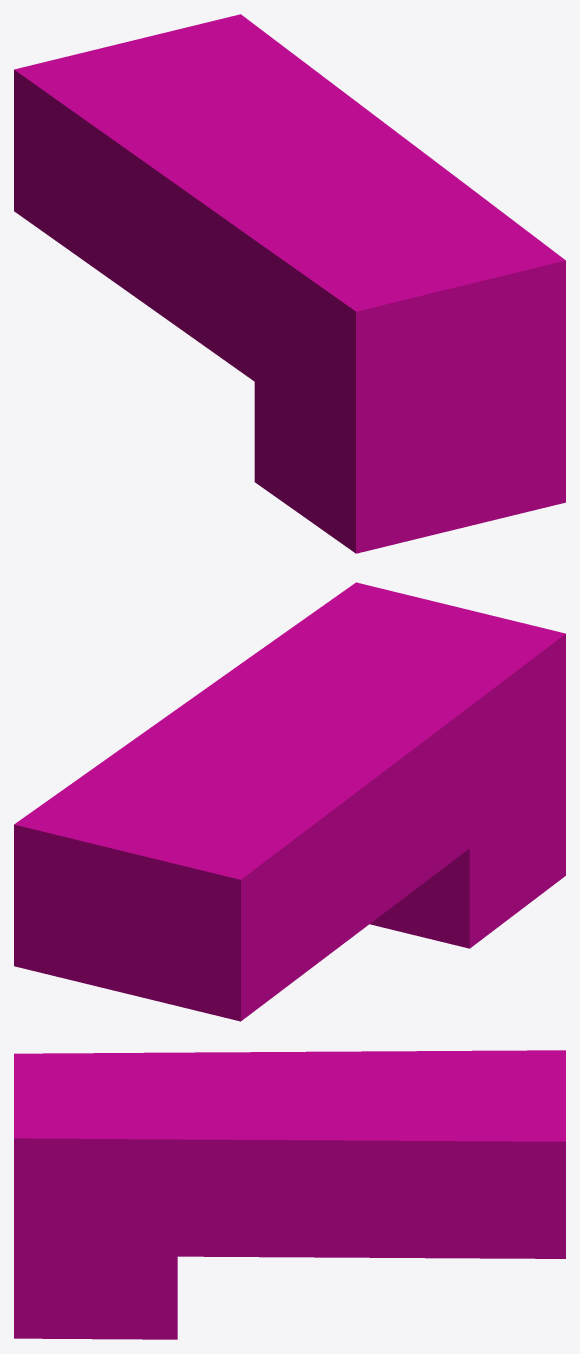
File: right_upper_arm_collision.dae
3 views of the same model, one above another, from view 1: azimuth 30°, elevation 25°; view 2: azimuth 150°, elevation 25°; view 3: azimuth 270°, elevation 25° (orthographic). The views are drawn at different scales.
Parts seen in each view (by area): view 1: right_upper_arm_collision; view 2: right_upper_arm_collision; view 3: right_upper_arm_collision.
Boxes of the visible parts, <box> form: right_upper_arm_collision: <box>14,14,565,553</box>; right_upper_arm_collision: <box>14,582,565,1021</box>; right_upper_arm_collision: <box>14,1050,565,1339</box>.
Bounding box in the file's own units: 0.0955 × 0.2434 × 0.0974.
